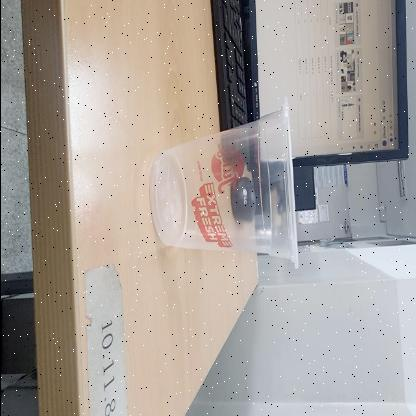Others: (150, 99, 298, 275)
